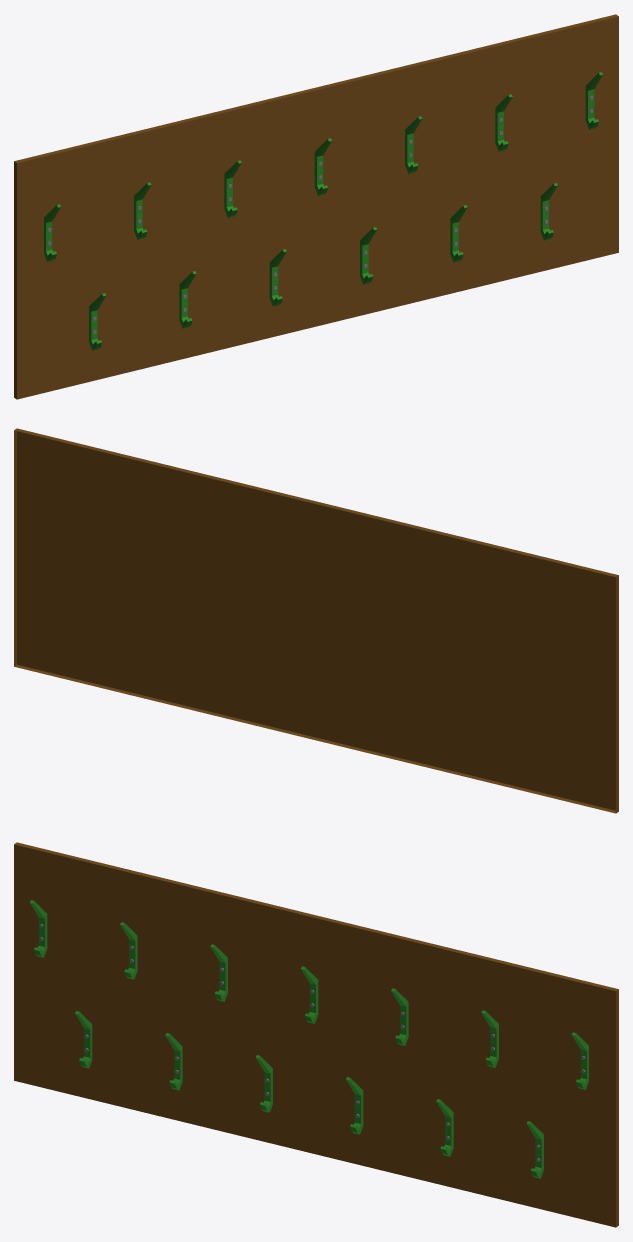
The model's file is vesakKablu.fbx.
The picture shows the model from 3 angles, top to bottom: view 1: azimuth 30°, elevation 25°; view 2: azimuth 150°, elevation 25°; view 3: azimuth 330°, elevation 25°; orthographic projection.
Visible parts, largest first — view 1: vesakKablu; view 2: vesakKablu; view 3: vesakKablu.
Part boxes in pixels (<box>): vesakKablu: <box>14,14,618,399</box>; vesakKablu: <box>14,428,618,813</box>; vesakKablu: <box>14,842,618,1227</box>.
Bounding box in the file's own units: 120 × 45 × 5.36.
